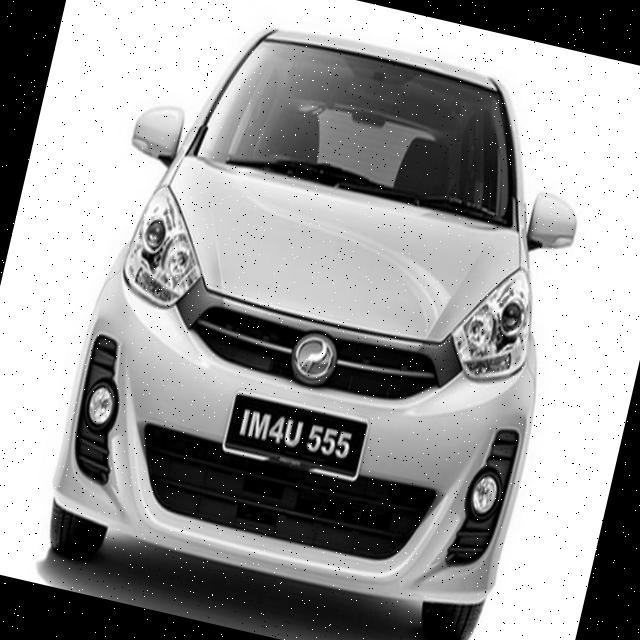License_Plate: (213, 386, 378, 494)
car: (12, 1, 640, 640)
